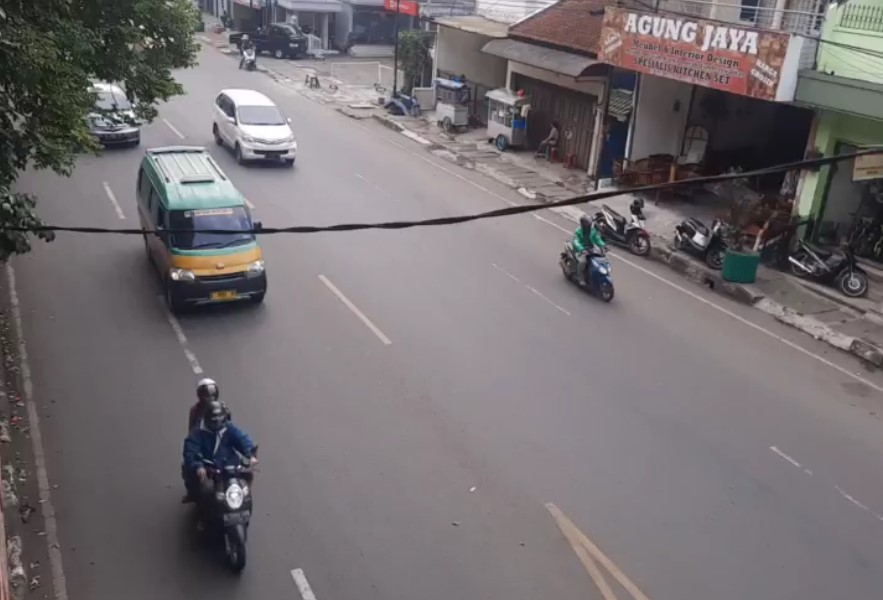mobil: (132, 151, 267, 298), (213, 87, 301, 165)
motor: (186, 390, 255, 563), (558, 216, 614, 302)
